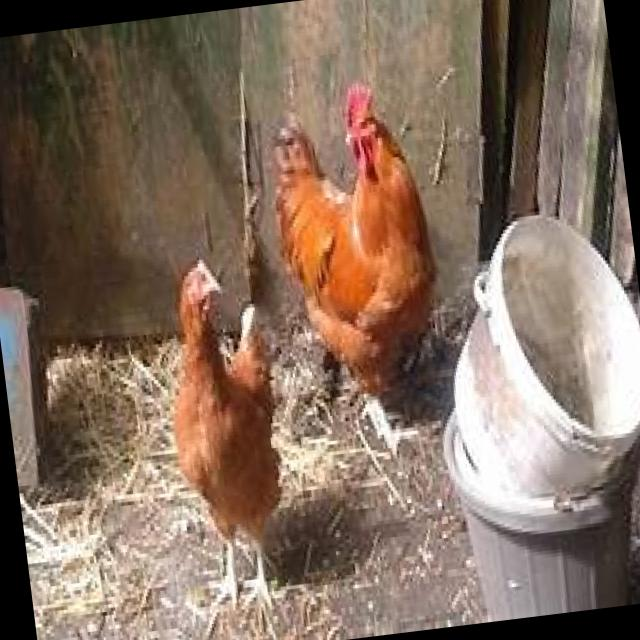animal: (263, 81, 453, 450), (152, 247, 298, 618)
